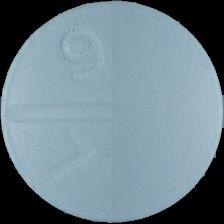0093-0734: (0, 0, 224, 224)
